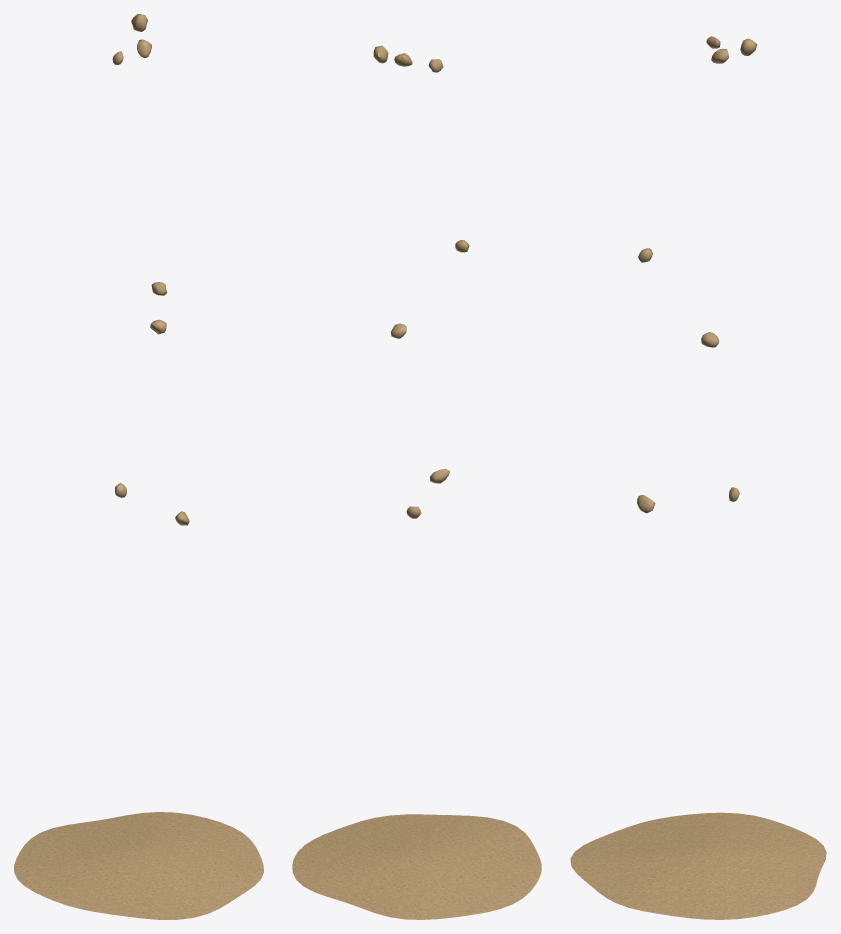
The model's file is ALV-AGR-001_anim.glb.
3 renders of one model, left to right at view 1: azimuth 30°, elevation 25°; view 2: azimuth 150°, elevation 25°; view 3: azimuth 270°, elevation 25°, orthographic.
Visible parts, largest first — view 1: ALV-AGR-001_anim_monte; view 2: ALV-AGR-001_anim_monte; view 3: ALV-AGR-001_anim_monte.
Part boxes in pixels (x1,y1,x2,y2): ALV-AGR-001_anim_monte: [14, 812, 263, 919]; ALV-AGR-001_anim_monte: [292, 814, 541, 919]; ALV-AGR-001_anim_monte: [570, 812, 826, 919].
Size of the model in its own units: 0.2699 by 0.9809 by 0.2724.
1 material, 1 textured.
